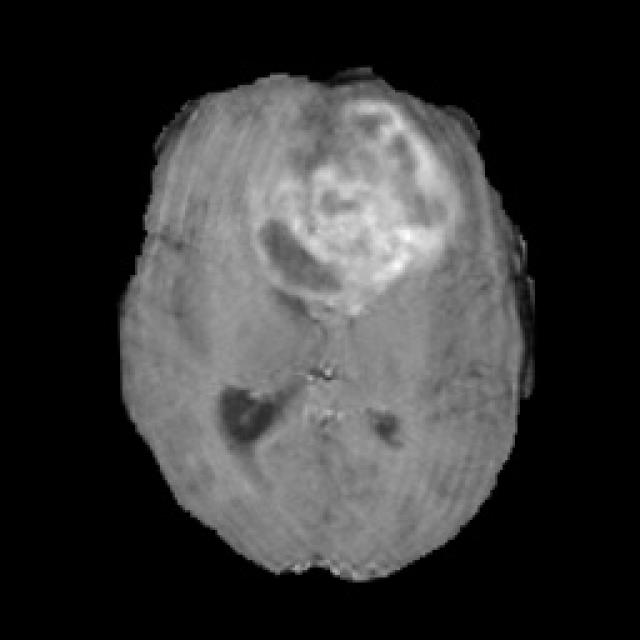negative: (236, 99, 462, 304)
